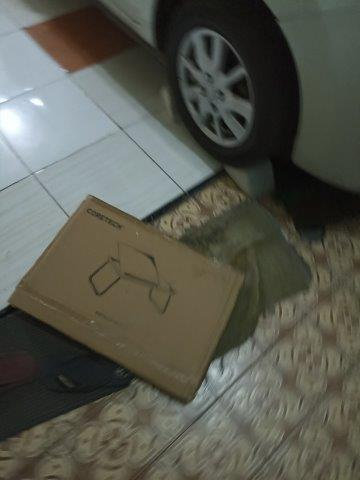kardus: (12, 197, 242, 398)
